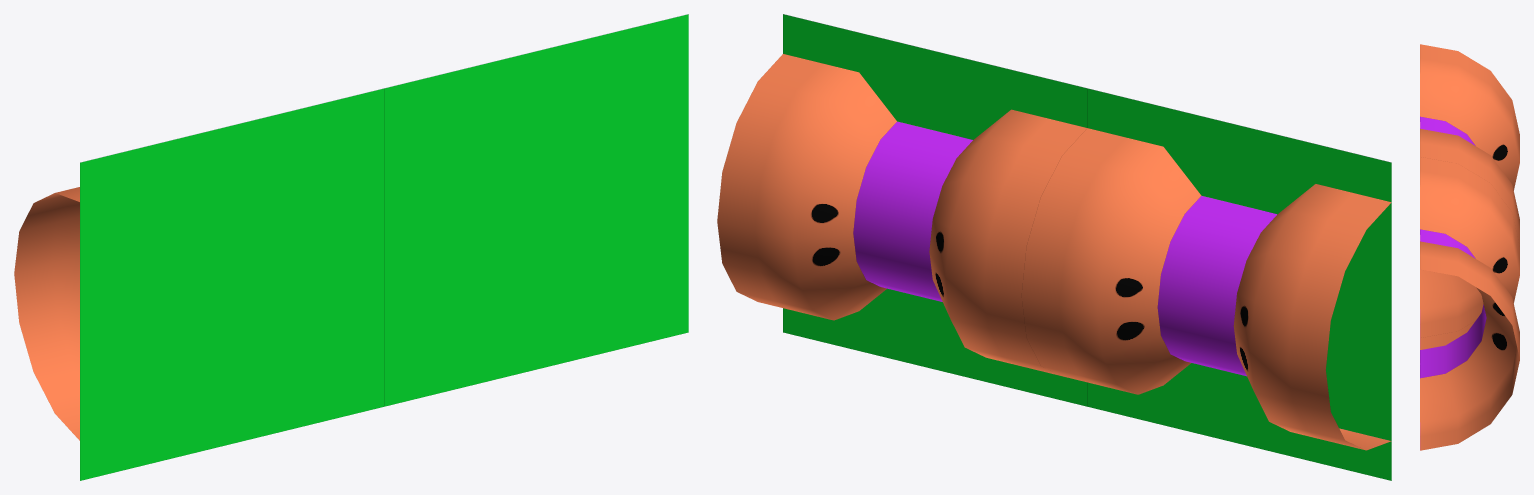
File: 1x2_Con.fbx
3 views of the same model, side by side, from view 1: azimuth 30°, elevation 25°; view 2: azimuth 150°, elevation 25°; view 3: azimuth 270°, elevation 25° (orthographic). The views are drawn at different scales.
Parts seen in each view (by area): view 1: Panel_1x2_Connector; view 2: Panel_1x2_Connector; view 3: Panel_1x2_Connector.
Boxes of the visible parts, x1,y1,x2,y2 form: Panel_1x2_Connector: (14, 14, 688, 480); Panel_1x2_Connector: (717, 14, 1391, 480); Panel_1x2_Connector: (1420, 44, 1519, 450).
Size of the model in its own units: 200 by 100 by 37.5.
